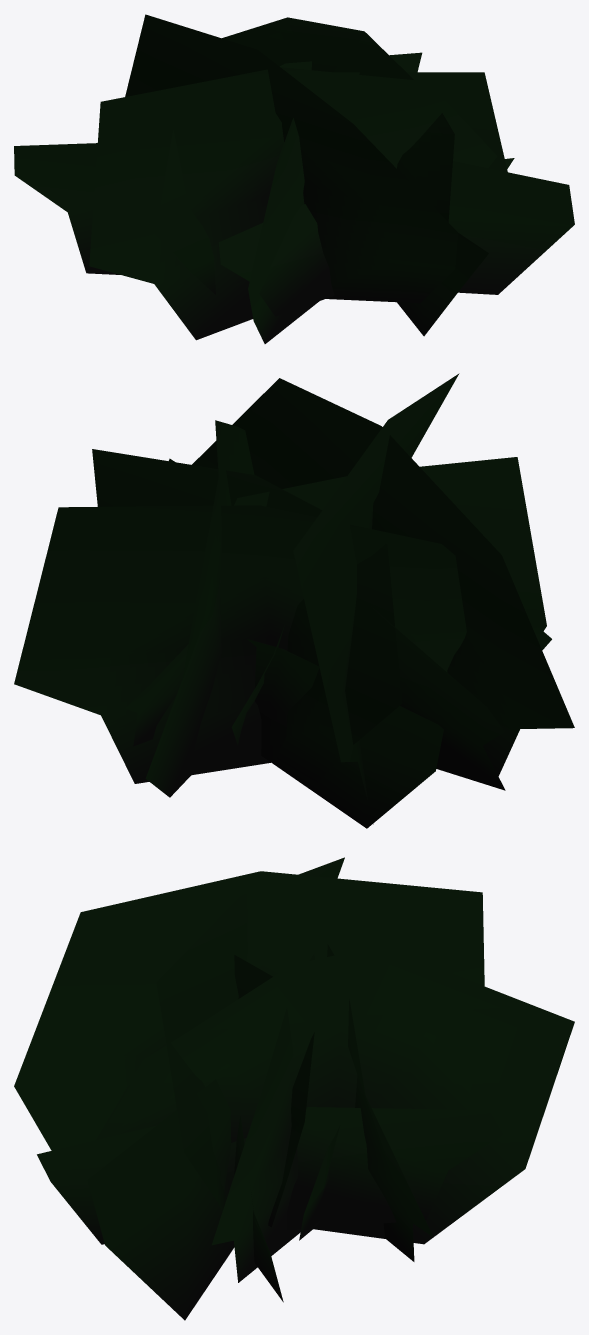
The model's file is Grass_Instanced_C.fbx.
3 views of the same model, one above another, from view 1: azimuth 30°, elevation 25°; view 2: azimuth 150°, elevation 25°; view 3: azimuth 270°, elevation 25° (orthographic). The views are drawn at different scales.
Parts seen in each view (by area): view 1: GIC_LOD0; view 2: GIC_LOD0; view 3: GIC_LOD0.
Boxes of the visible parts, x1,y1,x2,y2 form: GIC_LOD0: (14, 14, 574, 343); GIC_LOD0: (14, 373, 574, 828); GIC_LOD0: (14, 857, 574, 1320).
Size of what is drawn, in the model's own units: 0.9756 by 0.6047 by 0.9388.
